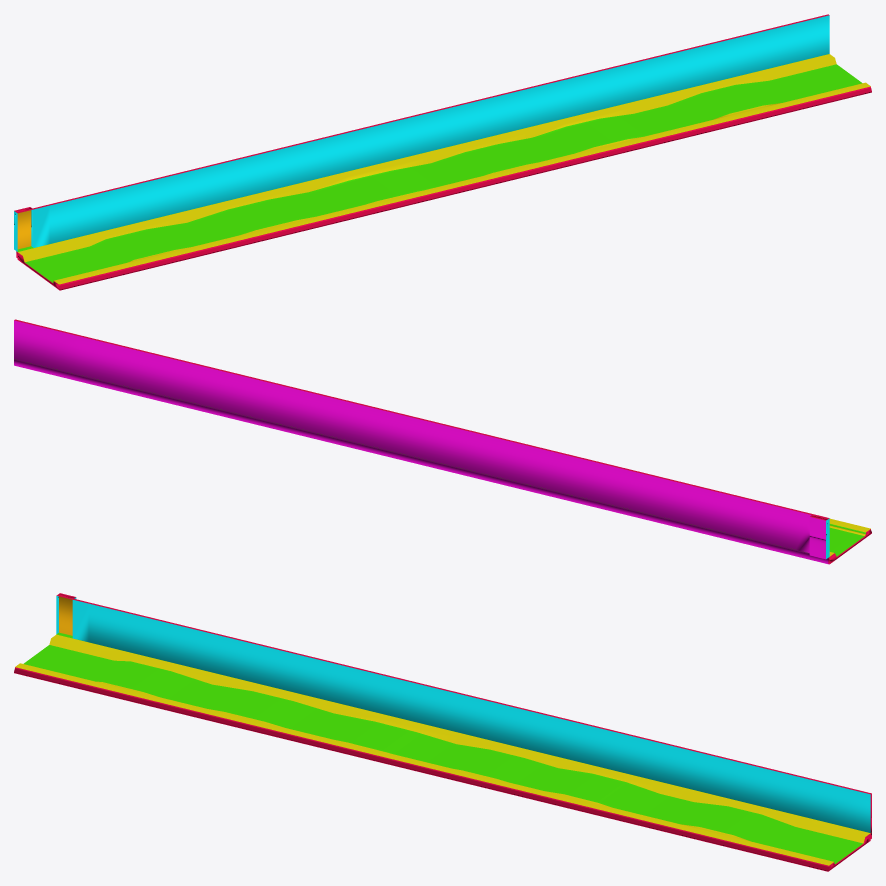
The picture shows the model from 3 angles, top to bottom: view 1: azimuth 30°, elevation 25°; view 2: azimuth 150°, elevation 25°; view 3: azimuth 330°, elevation 25°; orthographic projection.
Visible parts, largest first — view 1: Cube; view 2: Cube; view 3: Cube.
Boxes of the visible parts, x1,y1,x2,y2 form: Cube: (14,14,871,290); Cube: (14,319,871,564); Cube: (14,593,871,871).
Size of the model in its own units: 15.42 by 1.51 by 0.8401.
